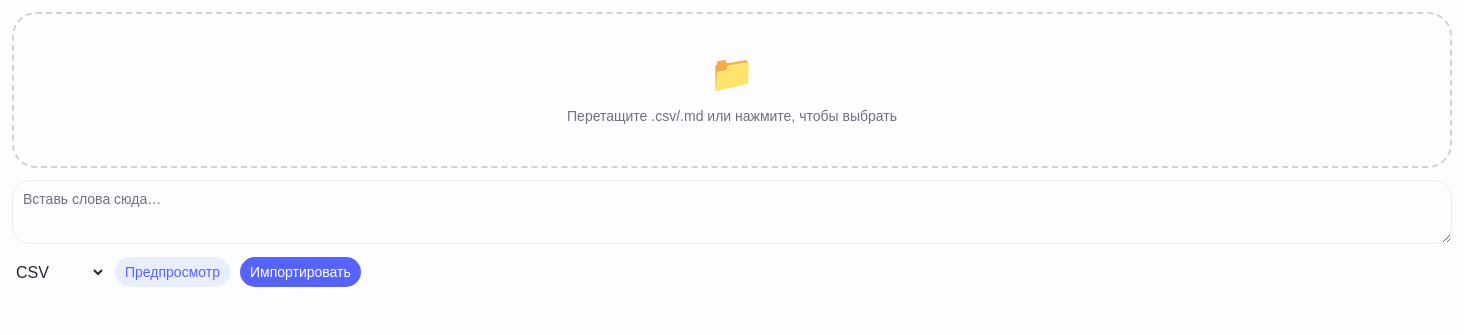
Test case: ImportForm › previews without committing then imports
Type "run,бежать" into the text box.
click(732, 212); type("run,бежать")  # box 12,180 -> 1452,244
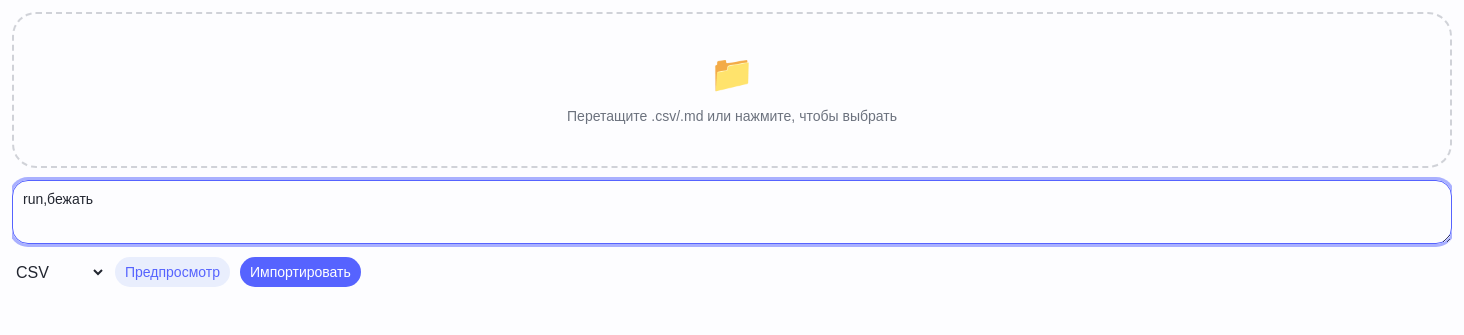
Click the button "Предпросмотр".
click(172, 272)  # box 114,256 -> 231,288
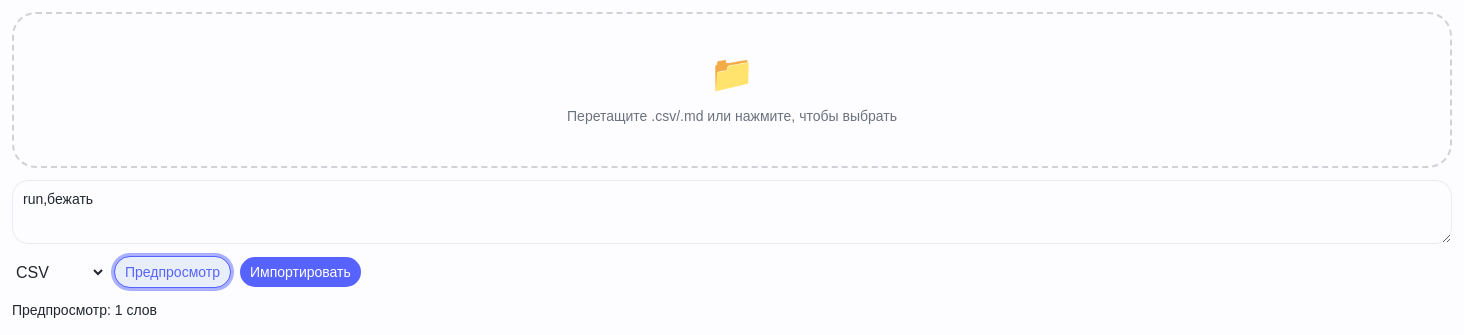
Result: the text "Предпросмотр: 1 слов" is shown at 12,302 -> 157,318
Click the button "Импортировать".
click(300, 272)  # box 239,256 -> 362,288
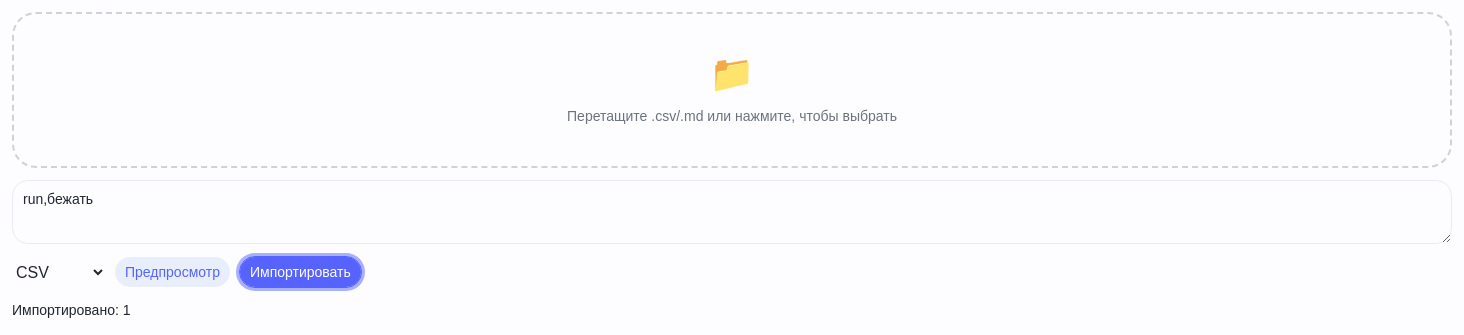
Result: the text "Импортировано: 1" is shown at 12,302 -> 130,318
